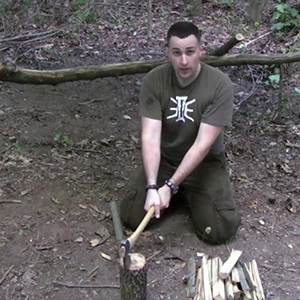person: (113, 17, 247, 248)
